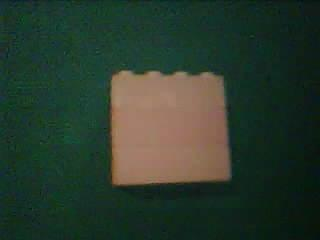lego: (108, 68, 233, 189)
